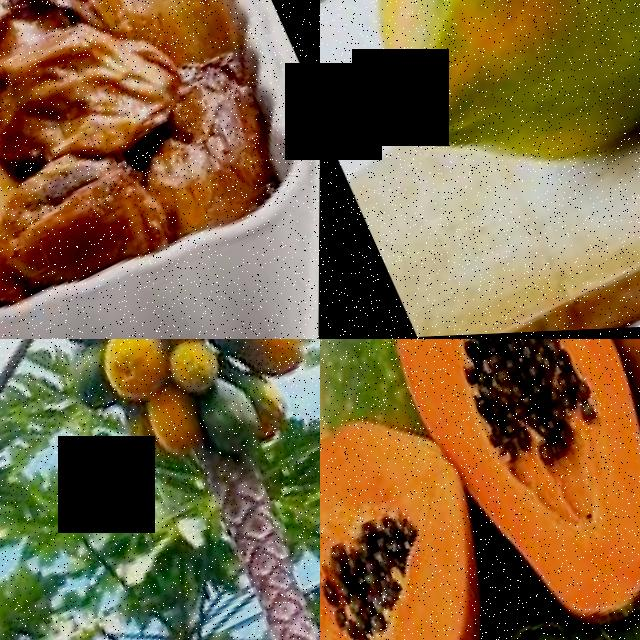pawpaw: (346, 339, 640, 640), (320, 0, 640, 228), (320, 384, 541, 640), (193, 373, 267, 460), (90, 339, 174, 409), (141, 383, 207, 466), (238, 339, 310, 388)
